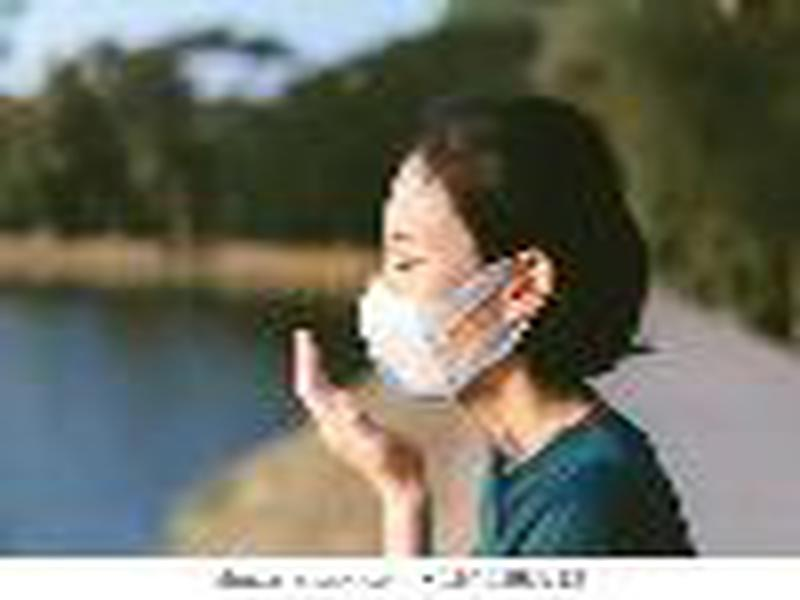with_mask: (351, 92, 659, 410)
